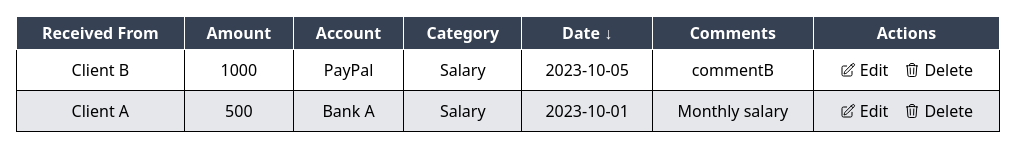
IncomeTable › sorts amount in ascending order with already sorted amounts
Click the column heading "Amount" at (239, 33), box top-left (184, 16), bottom-right (294, 50)
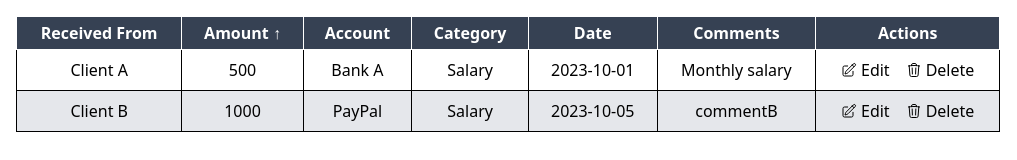
Check: the column heading "Amount ↑" is shown, box top-left (182, 16), bottom-right (303, 50)
